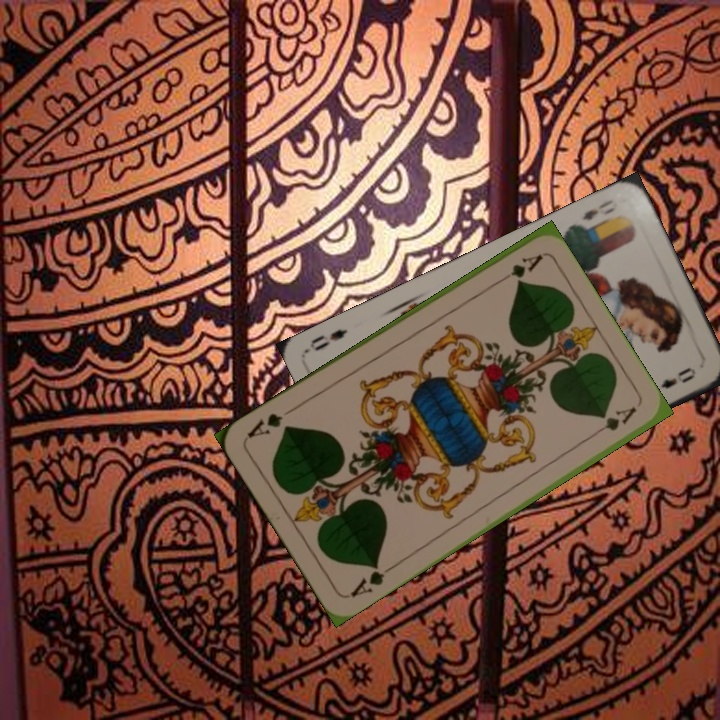EO: (579, 195, 618, 223)
GA: (491, 250, 545, 288), (346, 560, 397, 600)
